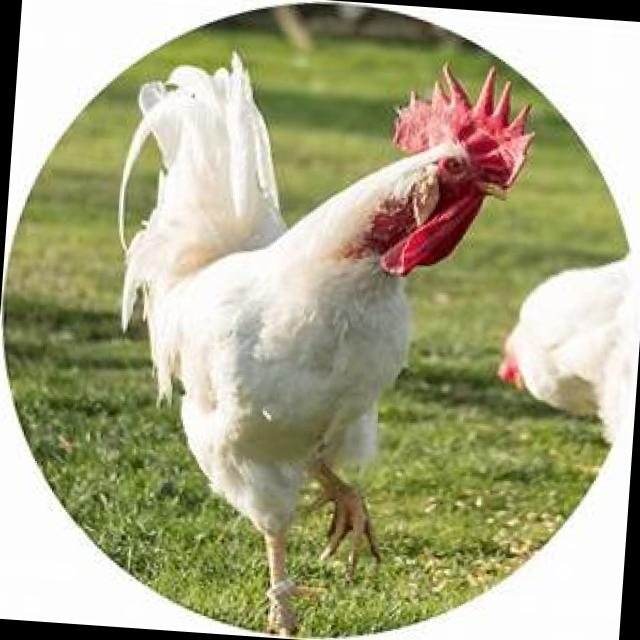animal: (67, 35, 544, 640), (481, 237, 640, 456)
